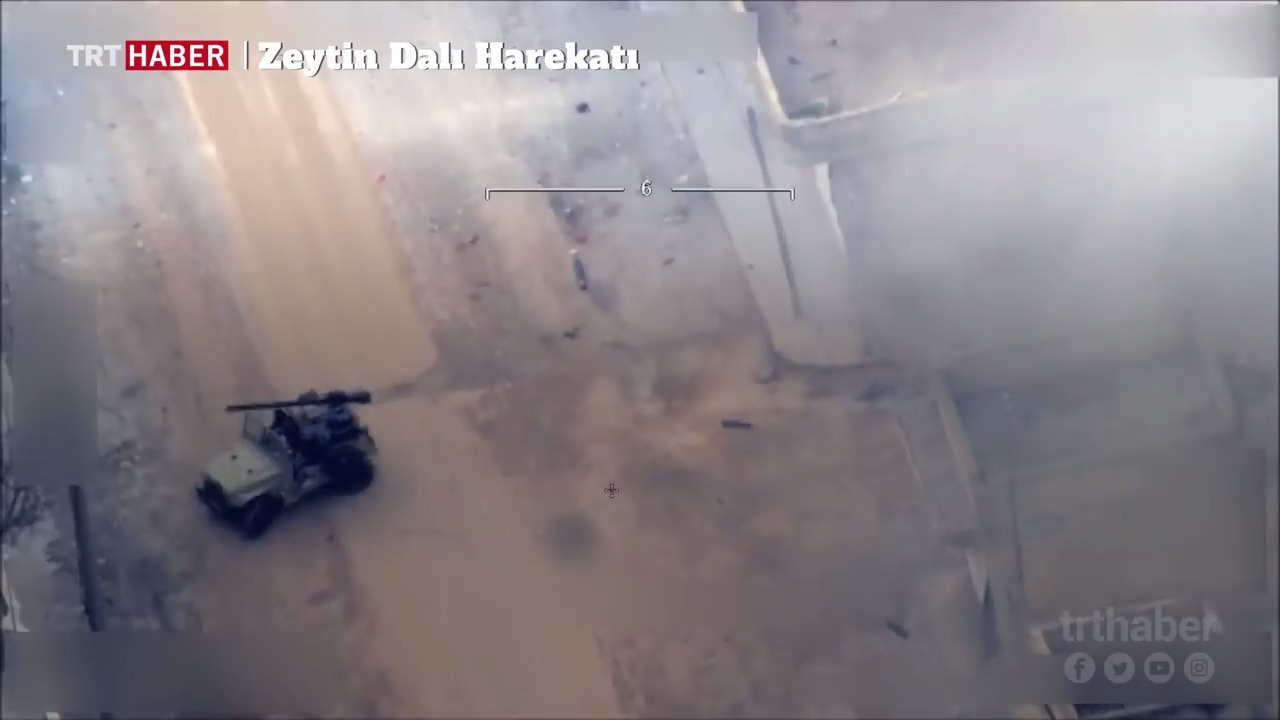arac: (193, 382, 384, 547)
